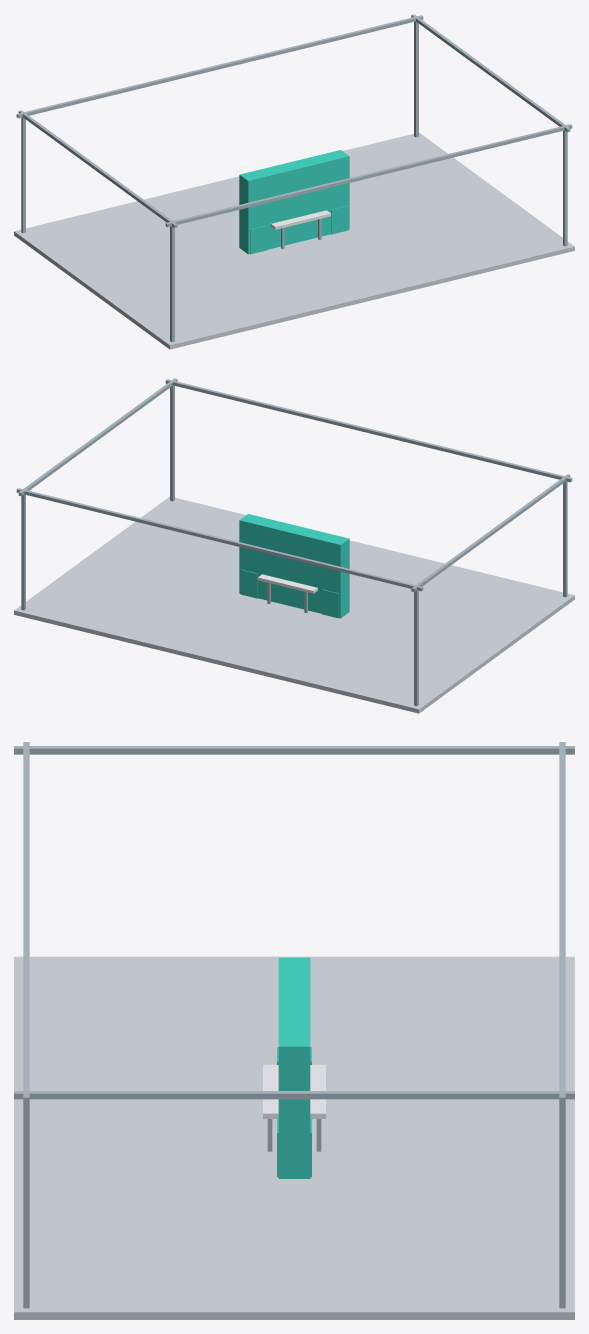
3 views of the same model, one above another, from view 1: azimuth 30°, elevation 25°; view 2: azimuth 150°, elevation 25°; view 3: azimuth 270°, elevation 25° (orthographic). The views are drawn at different scales.
Parts seen in each view (by area): view 1: Exhibition Booth Concept; view 2: Exhibition Booth Concept; view 3: Exhibition Booth Concept.
Boxes of the visible parts, x1=… form: Exhibition Booth Concept: x1=14, y1=14, x2=574, y2=349; Exhibition Booth Concept: x1=14, y1=378, x2=574, y2=713; Exhibition Booth Concept: x1=14, y1=742, x2=574, y2=1319.
Size of the model in its own units: 12 by 3.49 by 8.
